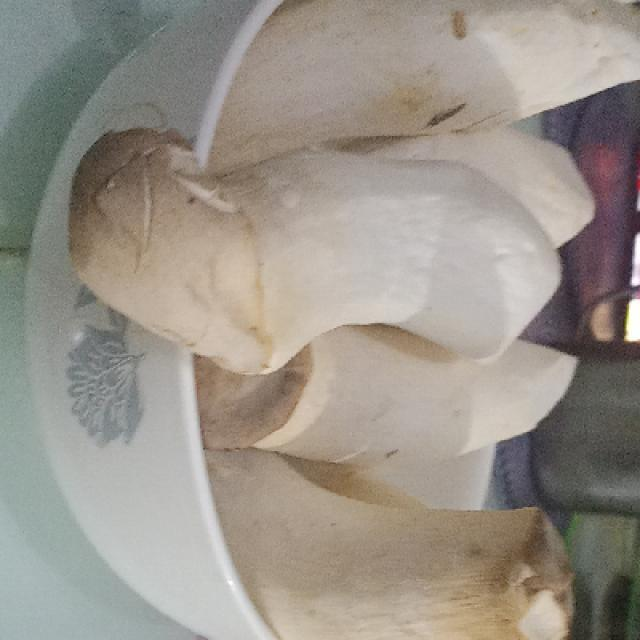Pleurotus eryngii: (74, 0, 640, 640)
